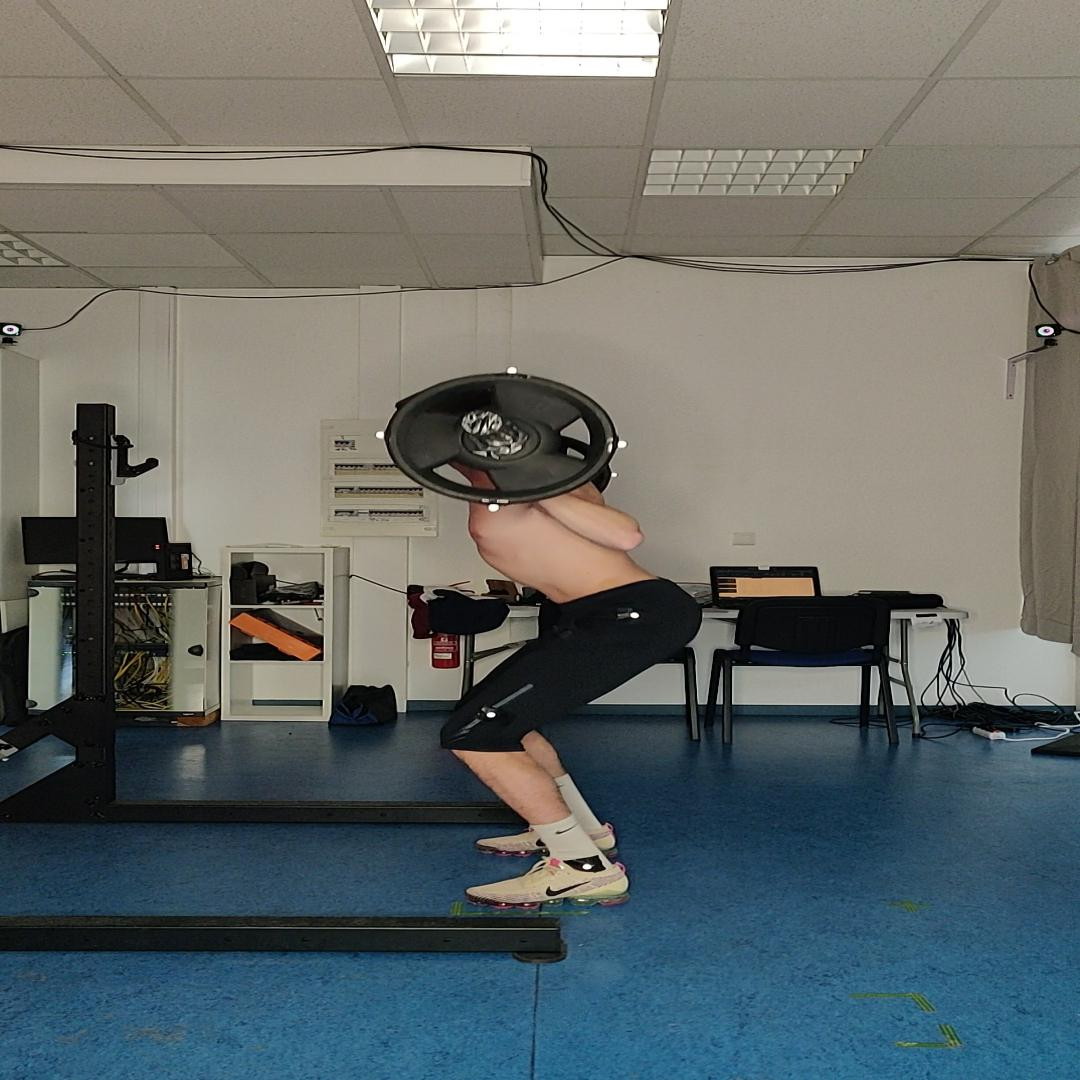Bar: (462, 411, 503, 435)
Barbell: (384, 373, 620, 505)
